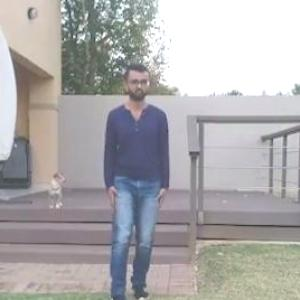follow: (101, 59, 171, 299)
